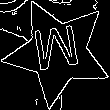M_S: (31, 24, 85, 81)
